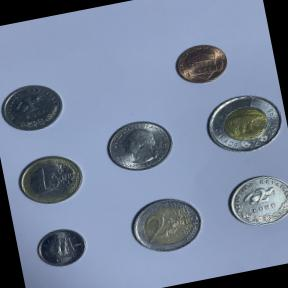1 Euro: (11, 147, 89, 212)
2 Euro: (124, 189, 209, 260)
Canda-10cent-: (30, 222, 92, 272)
Canda-2Dollar-: (198, 86, 288, 161)
Croatia-2Kune-: (220, 167, 288, 233)
US-1cent-: (168, 37, 234, 90)
US-25cent-: (99, 113, 179, 178)
